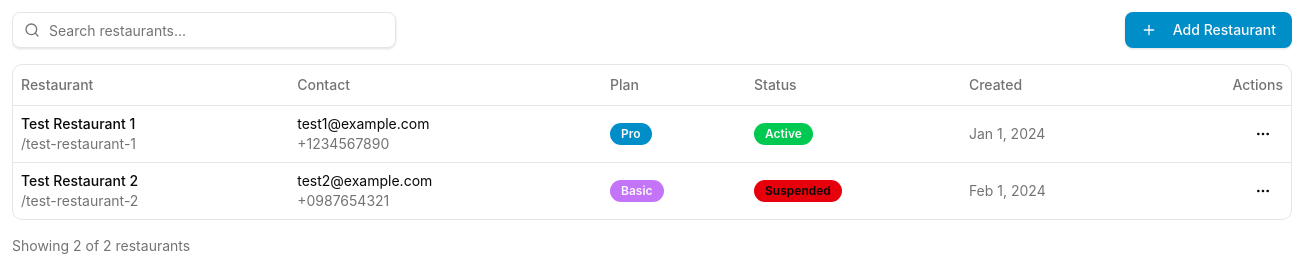
Test case: RestaurantTable › filters restaurants by search query
Type "Restaurant 1" into the field with placeholder "Search restaurants...".
click(204, 30); type("Restaurant 1")  # box [12,12,396,48]
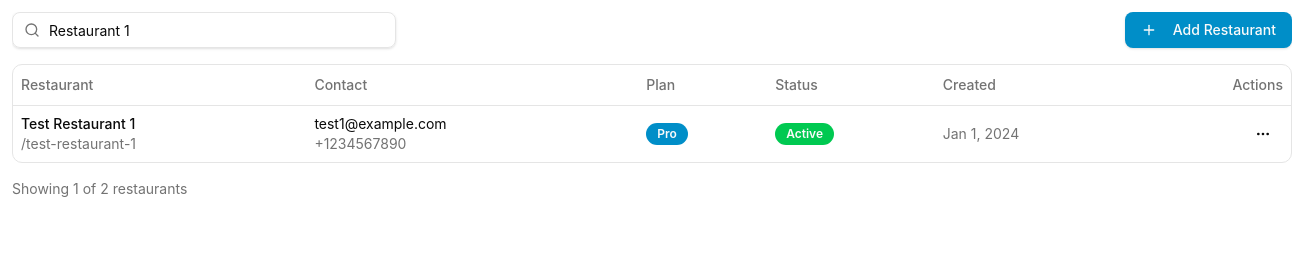
Expected: the text "Test Restaurant 1" is shown, [21,114,135,132]
Now the text "Test Restaurant 2" is gone
